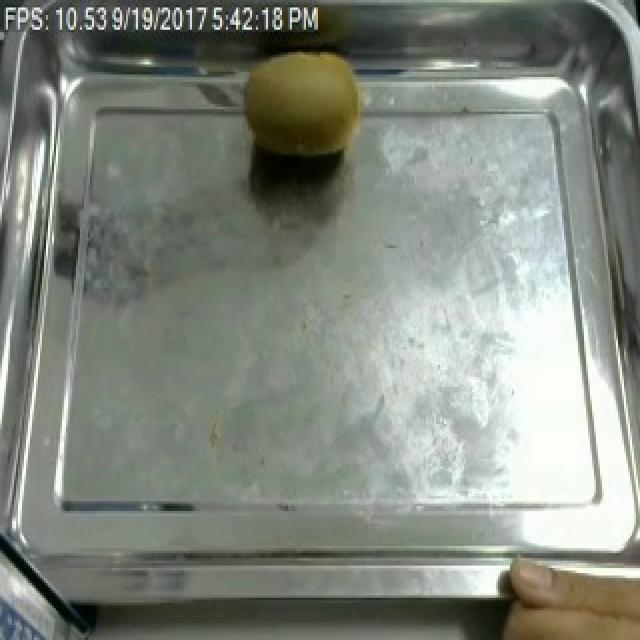Fruit: (236, 42, 374, 164), (480, 543, 640, 640)
